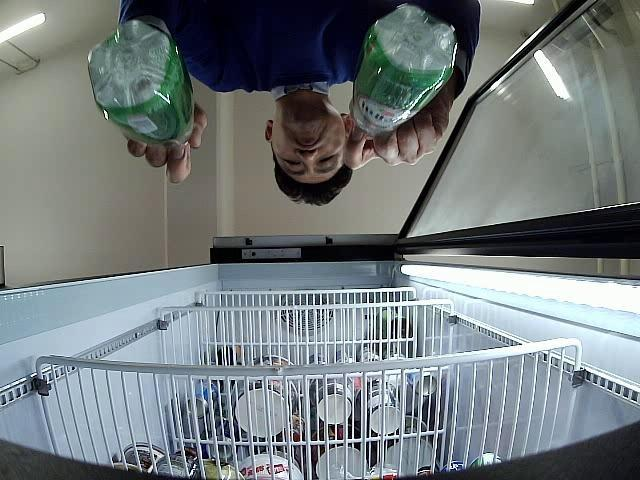18_trevi: (352, 5, 456, 134), (86, 19, 192, 144)
